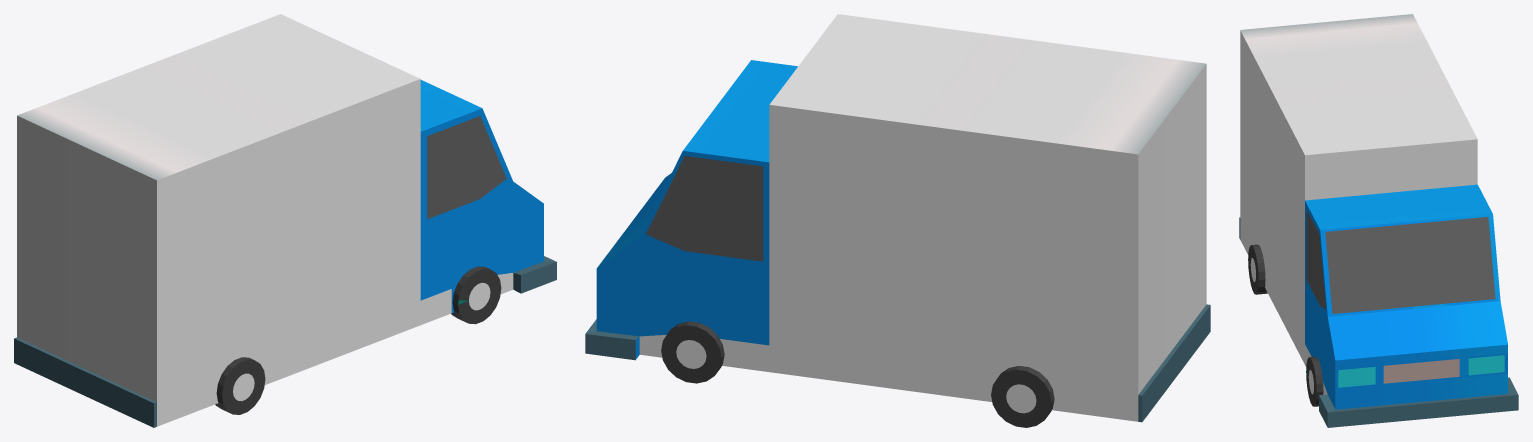
The model's file is car_08_2_world_ap.11_0_lev1.glb.
3 renders of one model, left to right at view 1: azimuth 30°, elevation 25°; view 2: azimuth 150°, elevation 25°; view 3: azimuth 270°, elevation 25°, orthographic. The views are drawn at different scales.
Parts seen in each view (by area): view 1: car_08_2_world_ap.11_0_lev1; view 2: car_08_2_world_ap.11_0_lev1; view 3: car_08_2_world_ap.11_0_lev1.
Boxes of the visible parts, x1,y1,x2,y2 form: car_08_2_world_ap.11_0_lev1: (14,14,556,427); car_08_2_world_ap.11_0_lev1: (585,14,1210,427); car_08_2_world_ap.11_0_lev1: (1239,14,1518,427).
Bounding box in the file's own units: 1.97 × 0.9995 × 1.13.
1 material, 1 textured.
